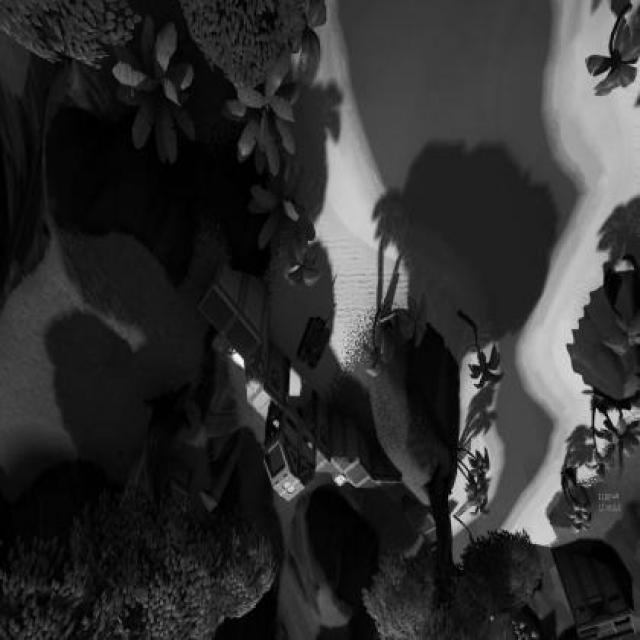tank: (296, 302, 336, 368)
